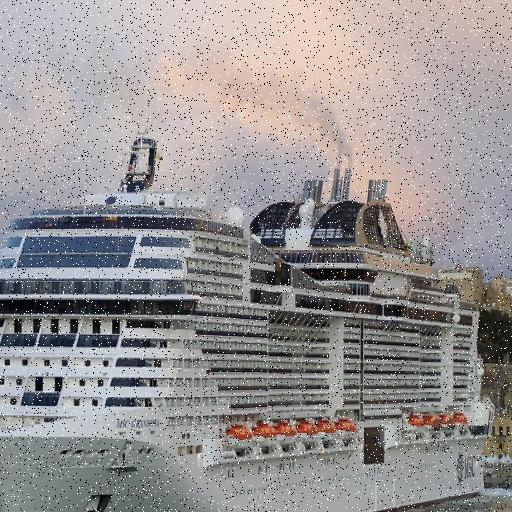cruises: (1, 133, 499, 512)
